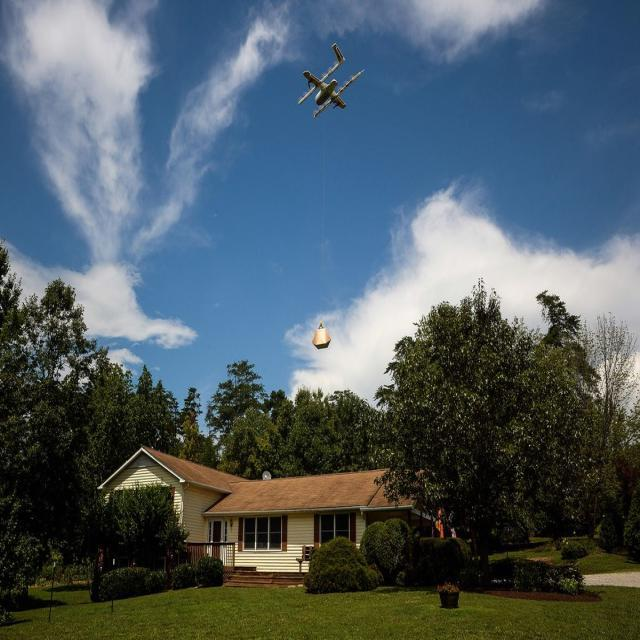iha: (322, 11, 327, 30)
